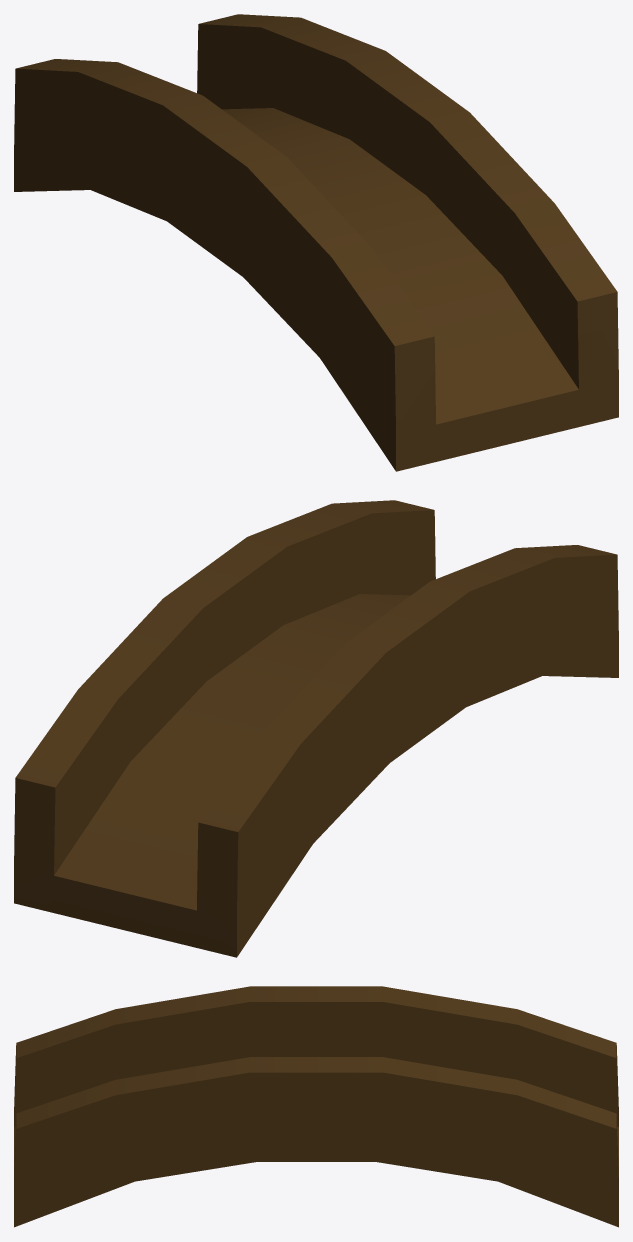
Rendered from Bridge.fbx.
The picture shows the model from 3 angles, top to bottom: view 1: azimuth 30°, elevation 25°; view 2: azimuth 150°, elevation 25°; view 3: azimuth 270°, elevation 25°; orthographic projection. The views are drawn at different scales.
Parts seen in each view (by area): view 1: pCube8; view 2: pCube8; view 3: pCube8.
Boxes of the visible parts, <box> form: pCube8: <box>14,14,618,471</box>; pCube8: <box>14,500,618,957</box>; pCube8: <box>14,986,618,1227</box>.
Size of the model in its own units: 0.0995 by 0.0835 by 0.2955.
